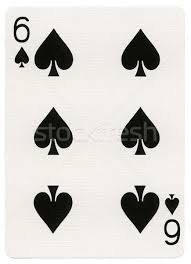six of spades: (7, 7, 184, 259)
